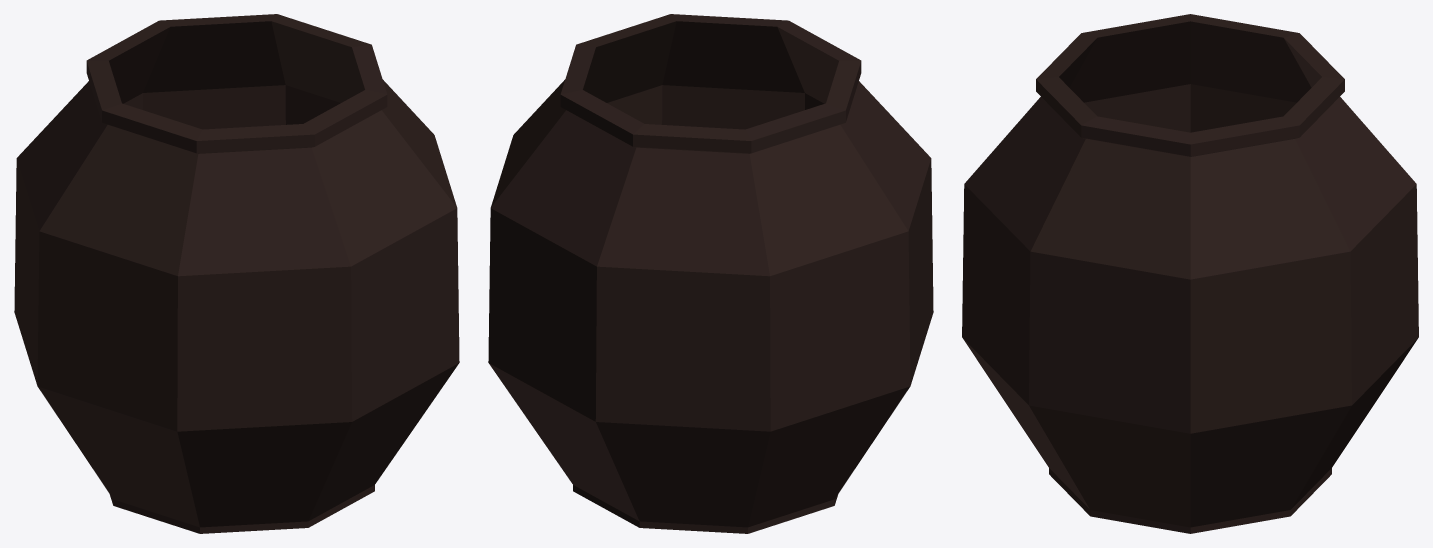
The picture shows the model from 3 angles, left to right: view 1: azimuth 30°, elevation 25°; view 2: azimuth 150°, elevation 25°; view 3: azimuth 270°, elevation 25°; orthographic projection.
Visible parts, largest first — view 1: guanzi_2; view 2: guanzi_2; view 3: guanzi_2.
Boxes of the visible parts, x1,y1,x2,y2 form: guanzi_2: (14, 14, 459, 533); guanzi_2: (488, 14, 933, 533); guanzi_2: (962, 14, 1418, 533).
Bounding box in the file's own units: 71.99 × 69.02 × 71.99.
